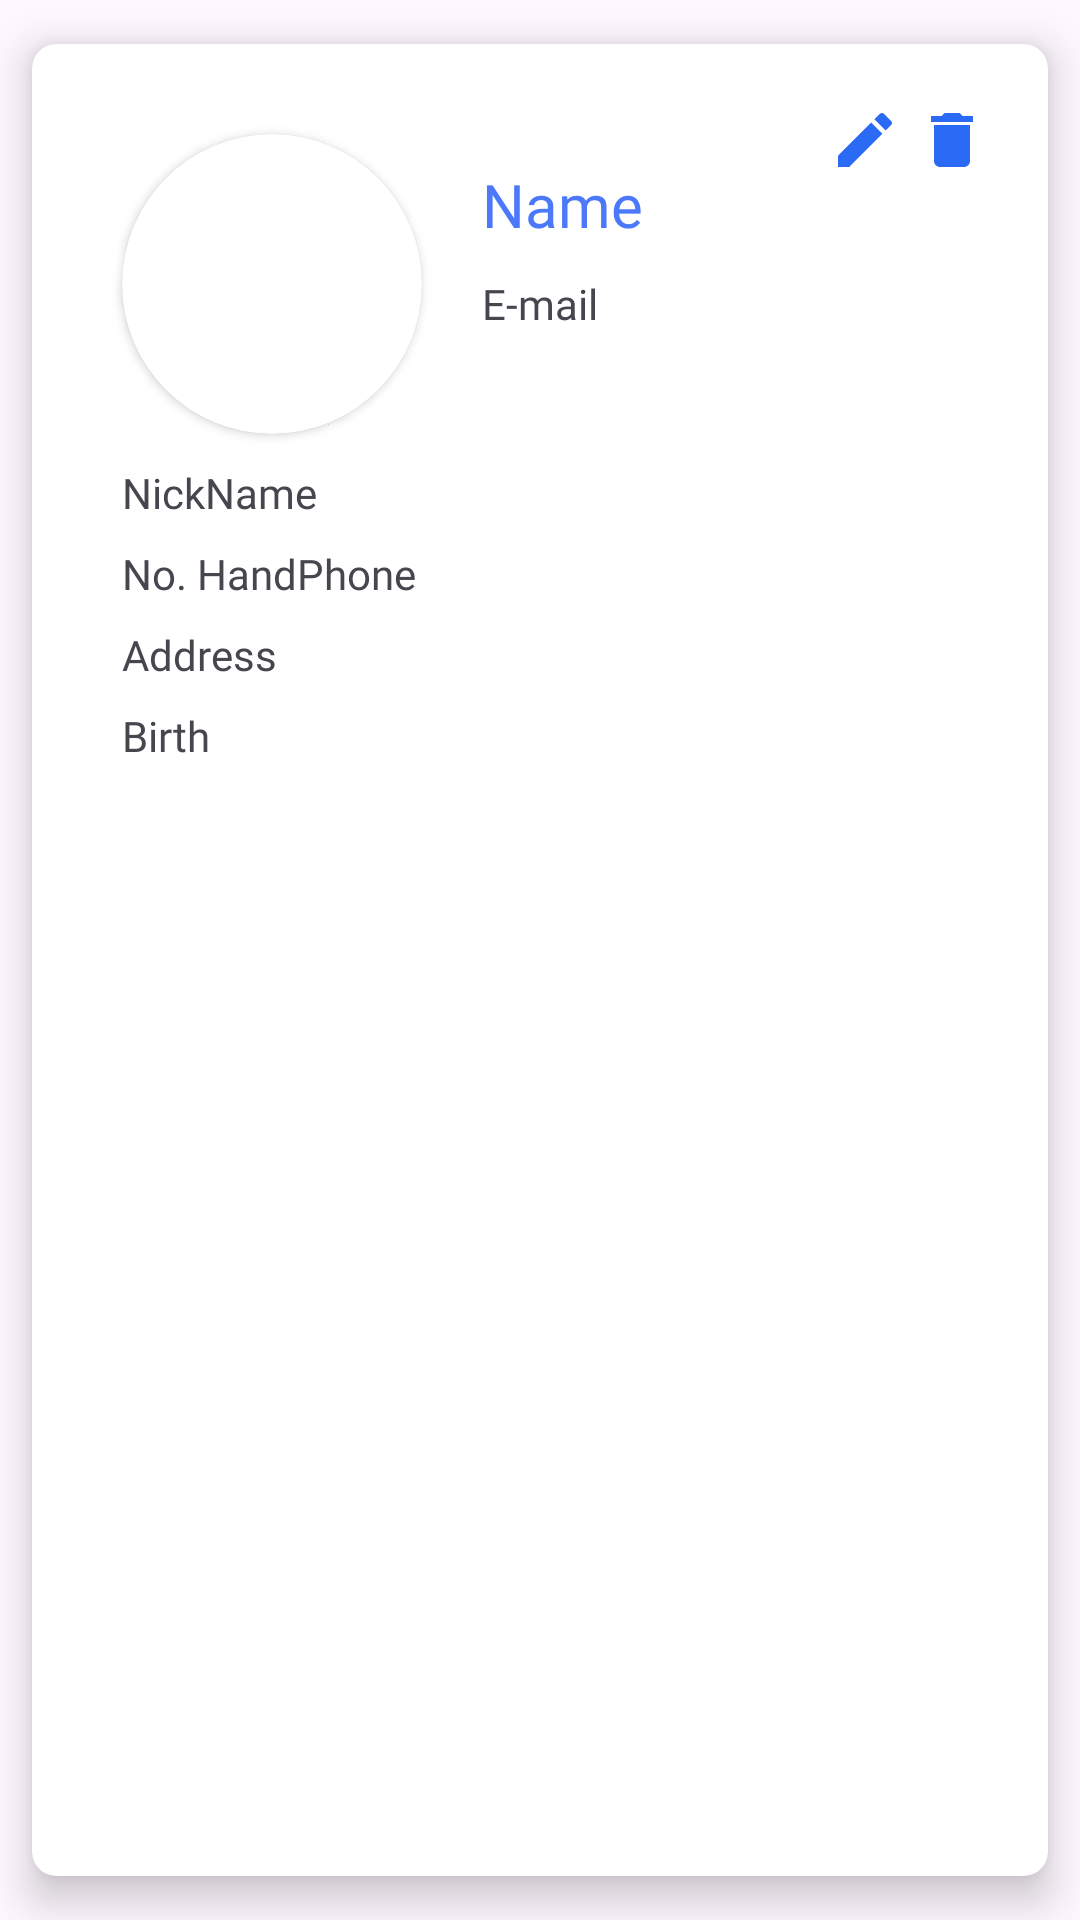

Where to tap for icons on this 1080px×1920px app screen, as (x=x, y=y):
delete: (x=952, y=140)
edit: (x=865, y=140)
